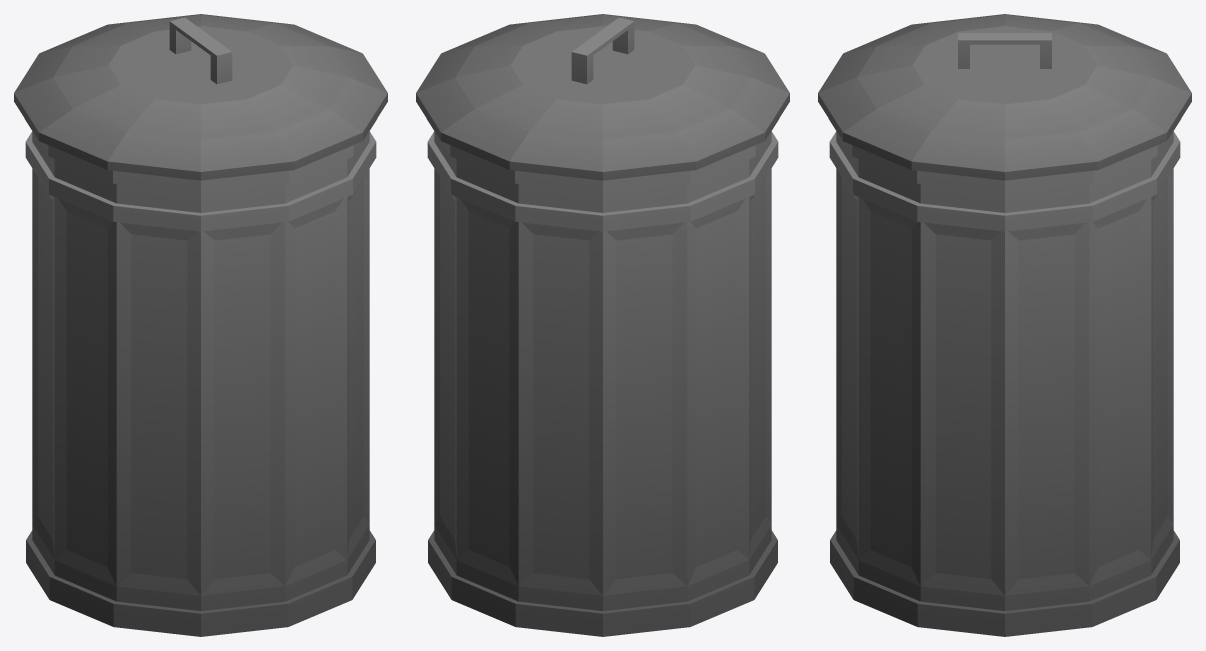
Rendered from Prop_Trashcan_01.obj.
The picture shows the model from 3 angles, left to right: view 1: azimuth 30°, elevation 25°; view 2: azimuth 150°, elevation 25°; view 3: azimuth 270°, elevation 25°; orthographic projection.
Parts seen in each view (by area): view 1: Prop_Trashcan_01, Prop_Trashcan_Top_01; view 2: Prop_Trashcan_01, Prop_Trashcan_Top_01; view 3: Prop_Trashcan_01, Prop_Trashcan_Top_01.
Part boxes in pixels (x1,y1,x2,y2): Prop_Trashcan_01: (25, 119, 376, 636); Prop_Trashcan_Top_01: (14, 14, 387, 180); Prop_Trashcan_01: (427, 119, 778, 636); Prop_Trashcan_Top_01: (416, 14, 789, 180); Prop_Trashcan_01: (829, 119, 1180, 636); Prop_Trashcan_Top_01: (818, 14, 1191, 180).
Bounding box in the file's own units: 0.5471 × 0.8499 × 0.5471.
1 material, 1 textured.
